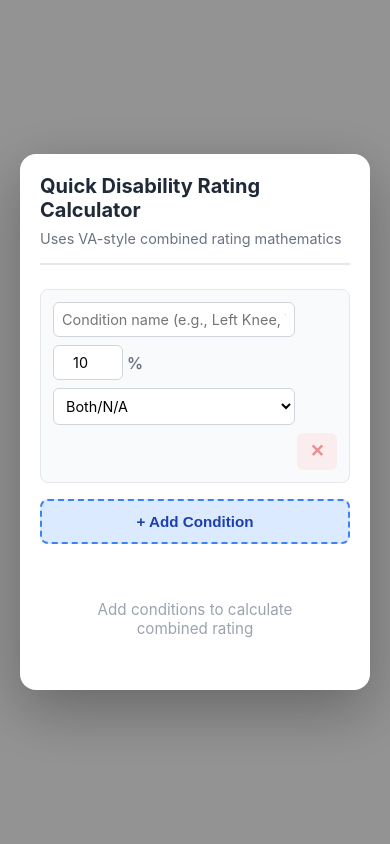
Scenario: DisabilityCalculator Component › Adding Conditions › adds a new condition when Add Condition button clicked
Click the button "+ Add Condition": click(195, 522) [40, 499, 350, 544]
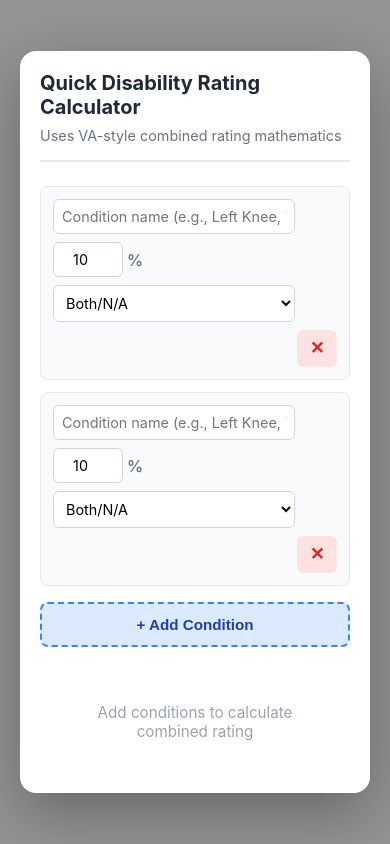
Now the number of fields with placeholder "Condition name (e.g., Left Knee, Tinnitus)" is 2, box [53, 199, 295, 234]; [53, 405, 295, 440]
